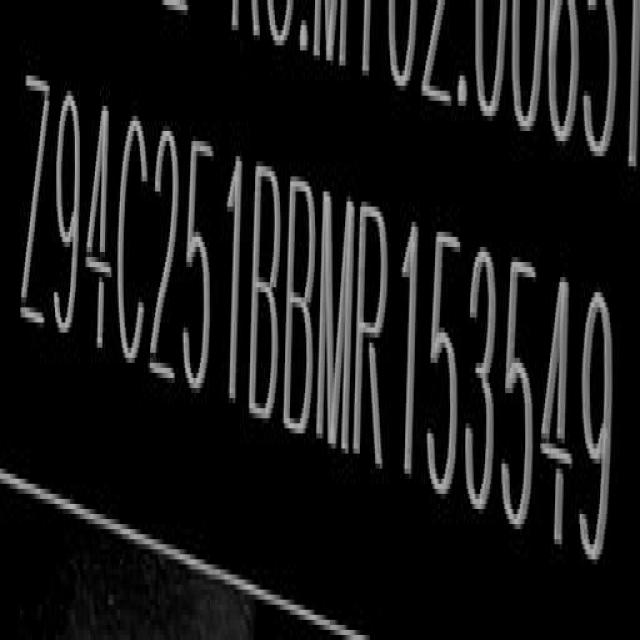1: (399, 210, 423, 486), (222, 148, 244, 410)
2: (151, 121, 179, 388)
3: (467, 239, 499, 523)
4: (543, 269, 576, 561), (88, 96, 115, 359)
5: (506, 253, 538, 541), (429, 222, 462, 500), (188, 133, 215, 400)
9: (580, 294, 616, 575), (51, 84, 80, 346)
B: (250, 156, 284, 422), (286, 169, 318, 441)
C: (118, 110, 149, 374)
M: (319, 184, 353, 455)
R: (356, 198, 389, 471)
Z: (19, 61, 49, 332)
